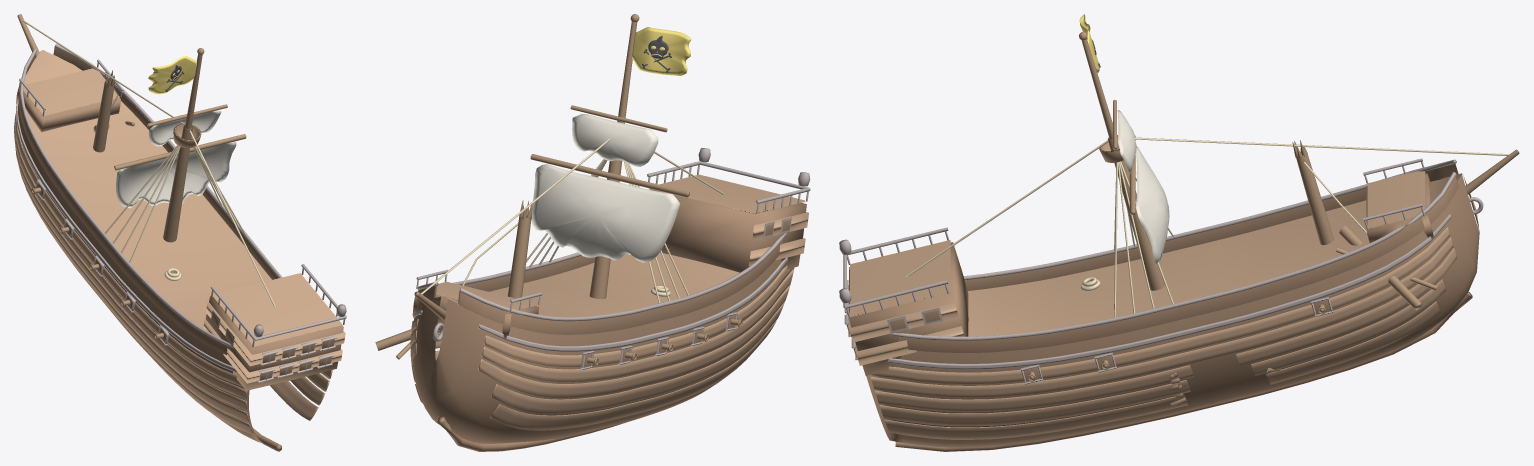
The model's file is SharkBaitShipwreck.glb.
The picture shows the model from 3 angles, left to right: view 1: azimuth 30°, elevation 25°; view 2: azimuth 150°, elevation 25°; view 3: azimuth 270°, elevation 25°; orthographic projection. The views are drawn at different scales.
Parts seen in each view (by area): view 1: Planks, Hull, Trim, Sail, Mast, Rope, Flag; view 2: Planks, Hull, Sail, Trim, Mast, Rope, Flag; view 3: Planks, Hull, Trim, Mast, Rope, Sail.
Part boxes in pixels (x1=…): Planks: x1=14, y1=50, x2=345, y2=434; Hull: x1=16, y1=46, x2=343, y2=451; Trim: x1=16, y1=44, x2=346, y2=382; Sail: x1=116, y1=110, x2=236, y2=208; Mast: x1=17, y1=14, x2=246, y2=339; Rope: x1=22, y1=20, x2=275, y2=306; Flag: x1=148, y1=56, x2=197, y2=94; Planks: x1=410, y1=174, x2=808, y2=430; Hull: x1=412, y1=189, x2=806, y2=451; Sail: x1=531, y1=114, x2=680, y2=262; Trim: x1=413, y1=148, x2=810, y2=369; Mast: x1=375, y1=14, x2=742, y2=365; Rope: x1=421, y1=138, x2=724, y2=303; Flag: x1=632, y1=27, x2=691, y2=75; Planks: x1=849, y1=171, x2=1462, y2=439; Hull: x1=846, y1=163, x2=1479, y2=451; Trim: x1=839, y1=158, x2=1483, y2=384; Mast: x1=1027, y1=32, x2=1519, y2=381; Rope: x1=904, y1=137, x2=1509, y2=317; Sail: x1=1117, y1=110, x2=1169, y2=264.
Size of the model in its own units: 14.96 by 34 by 49.94.
